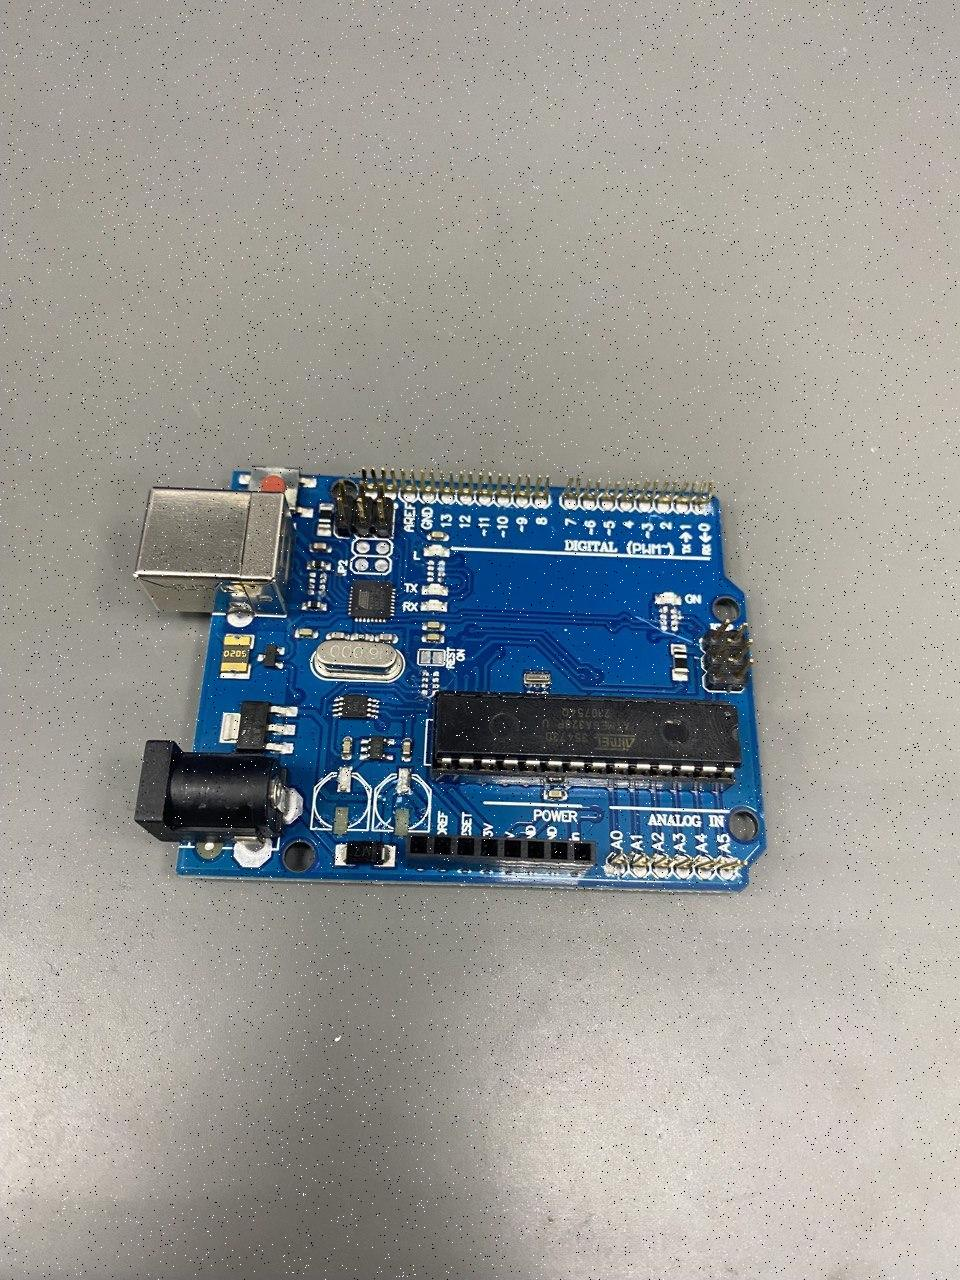ATmega328 chip: (431, 688, 742, 795)
Arduino board: (134, 467, 768, 894)
USB: (134, 485, 296, 619)
pins: (405, 833, 596, 876)
